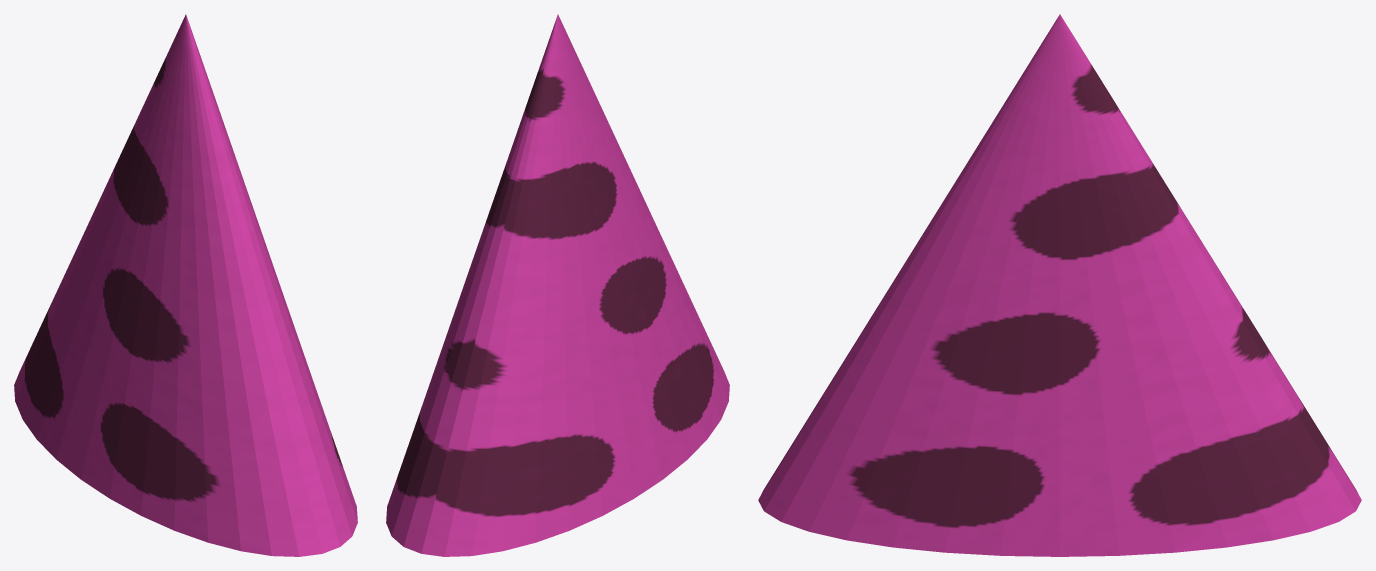
The picture shows the model from 3 angles, left to right: view 1: azimuth 30°, elevation 25°; view 2: azimuth 150°, elevation 25°; view 3: azimuth 270°, elevation 25°; orthographic projection. The views are drawn at different scales.
Visible parts, largest first — view 1: geometry_0; view 2: geometry_0; view 3: geometry_0.
Boxes of the visible parts, <box> form: geometry_0: <box>14,14,357,556</box>; geometry_0: <box>386,14,729,556</box>; geometry_0: <box>758,14,1361,556</box>.
Size of the model in its own units: 0.7869 by 1.57 by 1.77.
Materials: 1 (1 with a texture image).
